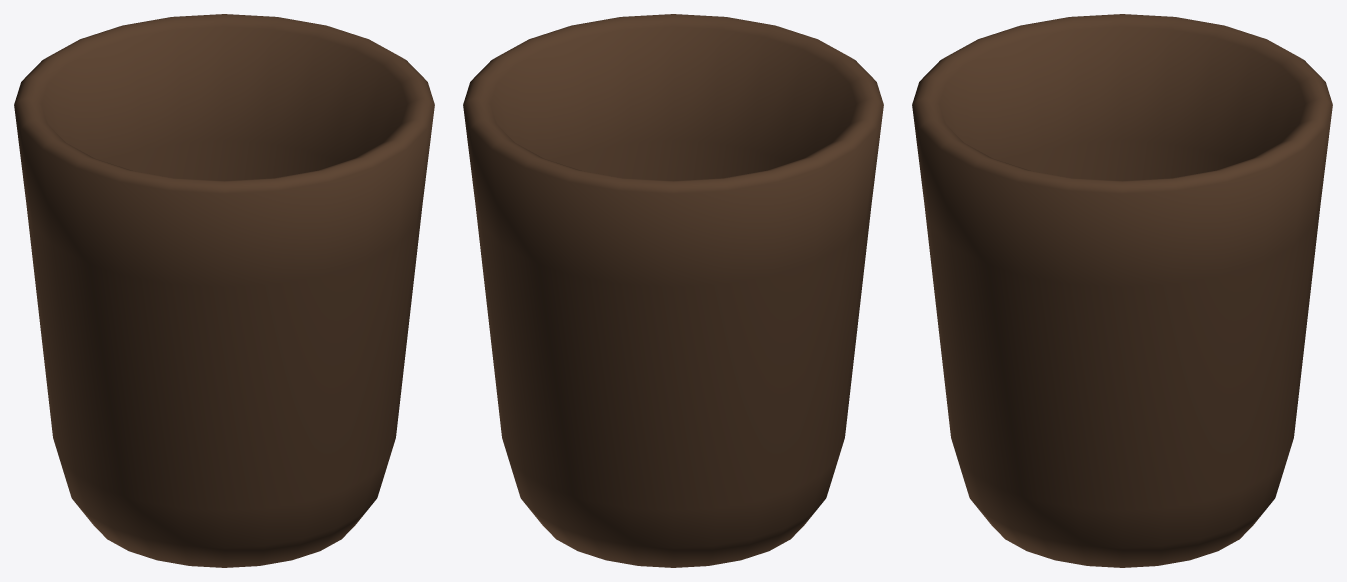
Rendered from bicchiere.fbx.
The picture shows the model from 3 angles, left to right: view 1: azimuth 30°, elevation 25°; view 2: azimuth 150°, elevation 25°; view 3: azimuth 270°, elevation 25°; orthographic projection.
Parts seen in each view (by area): view 1: Cylinder.162; view 2: Cylinder.162; view 3: Cylinder.162.
Part boxes in pixels (x1,y1,x2,y2): Cylinder.162: (14,14,434,567); Cylinder.162: (463,14,883,567); Cylinder.162: (912,14,1332,567).
Size of the model in its own units: 15.49 by 16.75 by 15.49.
